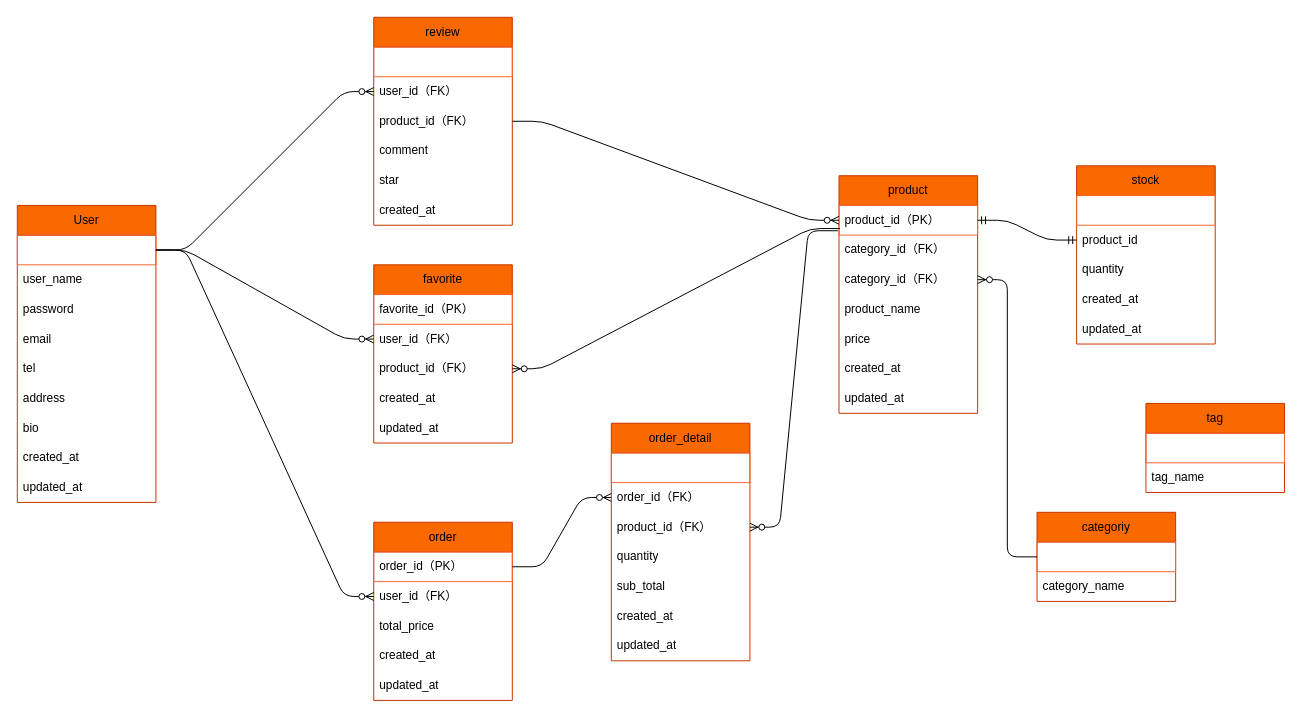
The diagram is 1302 pixels wide and 718 high, and some of its shapes have lost their labels. The shapes that lost their labels are listed below. From the top down, each one's centre as x and y in pixels, then its label:
At point (442, 61): "review_id（PK）".
At point (1145, 210): "stock_id（PK）".
At point (86, 249): "user_id（PK）".
At point (680, 467): "order_detail_id（PK）".
At point (1215, 447): "tag_id（PK）".
At point (1106, 556): "category_id（PK）".
